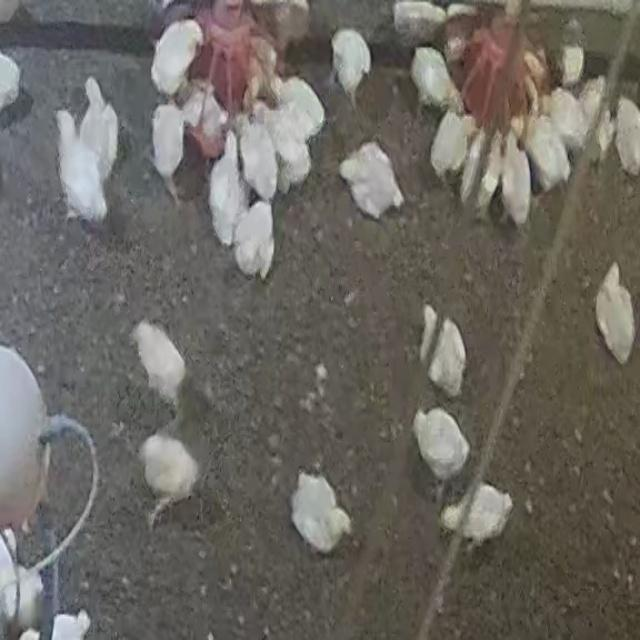chicken: (56, 111, 108, 229), (139, 432, 200, 531), (289, 469, 352, 555), (339, 140, 405, 221), (252, 99, 310, 190), (132, 318, 188, 409), (442, 483, 513, 546), (420, 305, 468, 398), (414, 407, 469, 485), (511, 115, 573, 184), (150, 18, 202, 99), (594, 264, 635, 364), (209, 130, 245, 243), (264, 71, 325, 137), (150, 98, 187, 196), (430, 109, 481, 179), (240, 115, 280, 202), (79, 76, 115, 170), (233, 202, 274, 281), (535, 91, 584, 156), (409, 44, 455, 110), (330, 28, 372, 100), (501, 134, 532, 225), (185, 73, 222, 139), (393, 0, 445, 42), (614, 97, 640, 176), (576, 76, 608, 132), (561, 16, 583, 88), (0, 49, 21, 112), (594, 107, 618, 160)
